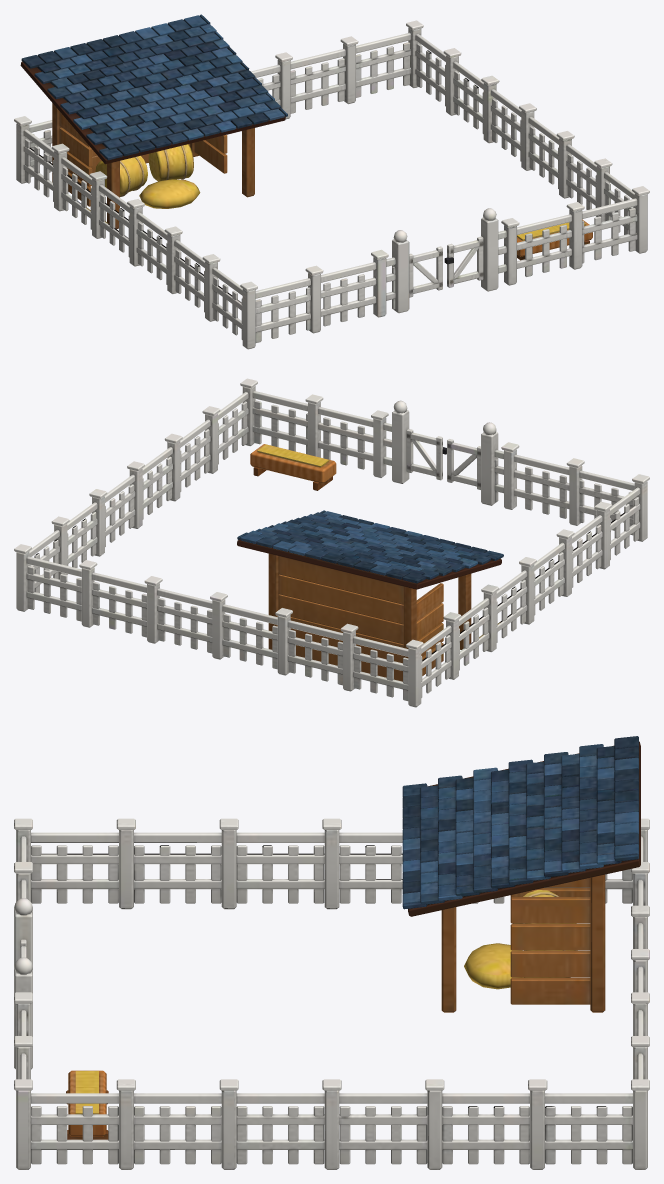
The model's file is valais_fold.glb.
3 views of the same model, one above another, from view 1: azimuth 30°, elevation 25°; view 2: azimuth 150°, elevation 25°; view 3: azimuth 270°, elevation 25° (orthographic). The views are drawn at different scales.
Visible parts, largest first — view 1: valais_fold, gate1, gate0; view 2: valais_fold, gate1, gate0; view 3: valais_fold.
Boxes of the visible parts, x1=… form: valais_fold: x1=14, y1=14, x2=649, y2=349; gate1: x1=444, y1=236, x2=483, y2=287; gate0: x1=409, y1=246, x2=442, y2=297; valais_fold: x1=14, y1=378, x2=649, y2=707; gate1: x1=406, y1=429, x2=446, y2=480; gate0: x1=447, y1=439, x2=480, y2=489; valais_fold: x1=14, y1=736, x2=649, y2=1169.
Size of the model in its own units: 2.99 by 0.9346 by 2.99.
Materials: 1 (1 with a texture image).
